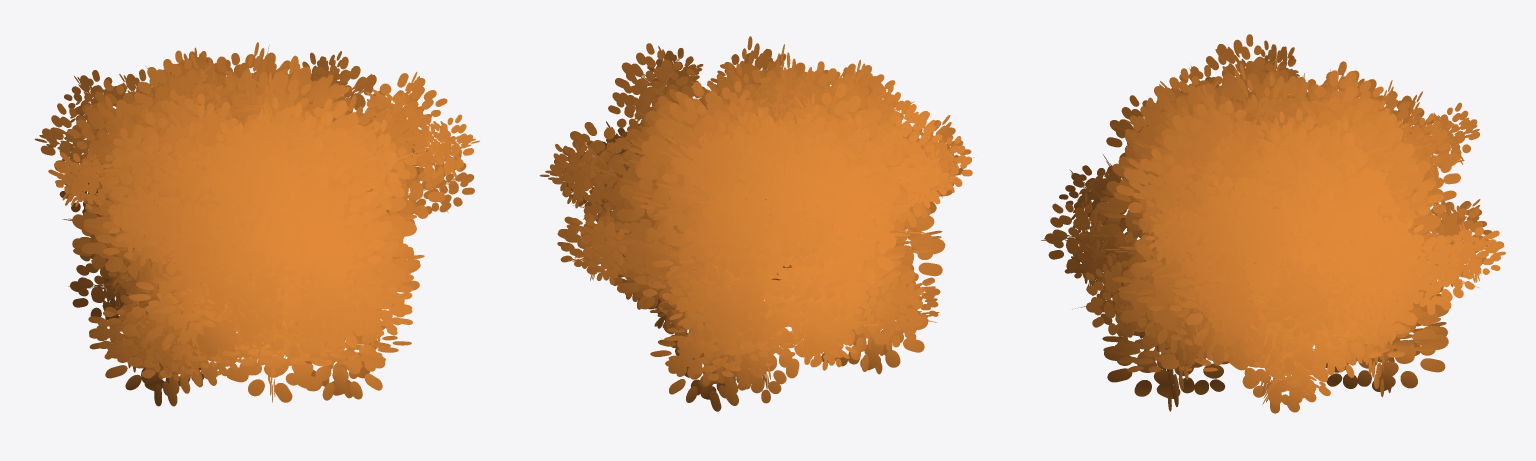
File: Bush_Common_Outono.gltf
3 renders of one model, left to right at view 1: azimuth 30°, elevation 25°; view 2: azimuth 150°, elevation 25°; view 3: azimuth 270°, elevation 25°, orthographic. The views are drawn at different scales.
Parts seen in each view (by area): view 1: Bush_Common; view 2: Bush_Common; view 3: Bush_Common.
Boxes of the visible parts, x1,y1,x2,y2 form: Bush_Common: (34,42,479,406); Bush_Common: (539,36,974,411); Bush_Common: (1041,34,1505,413).
Bounding box in the file's own units: 1.91 × 1.58 × 1.97.
Materials: 1 (1 with a texture image).
